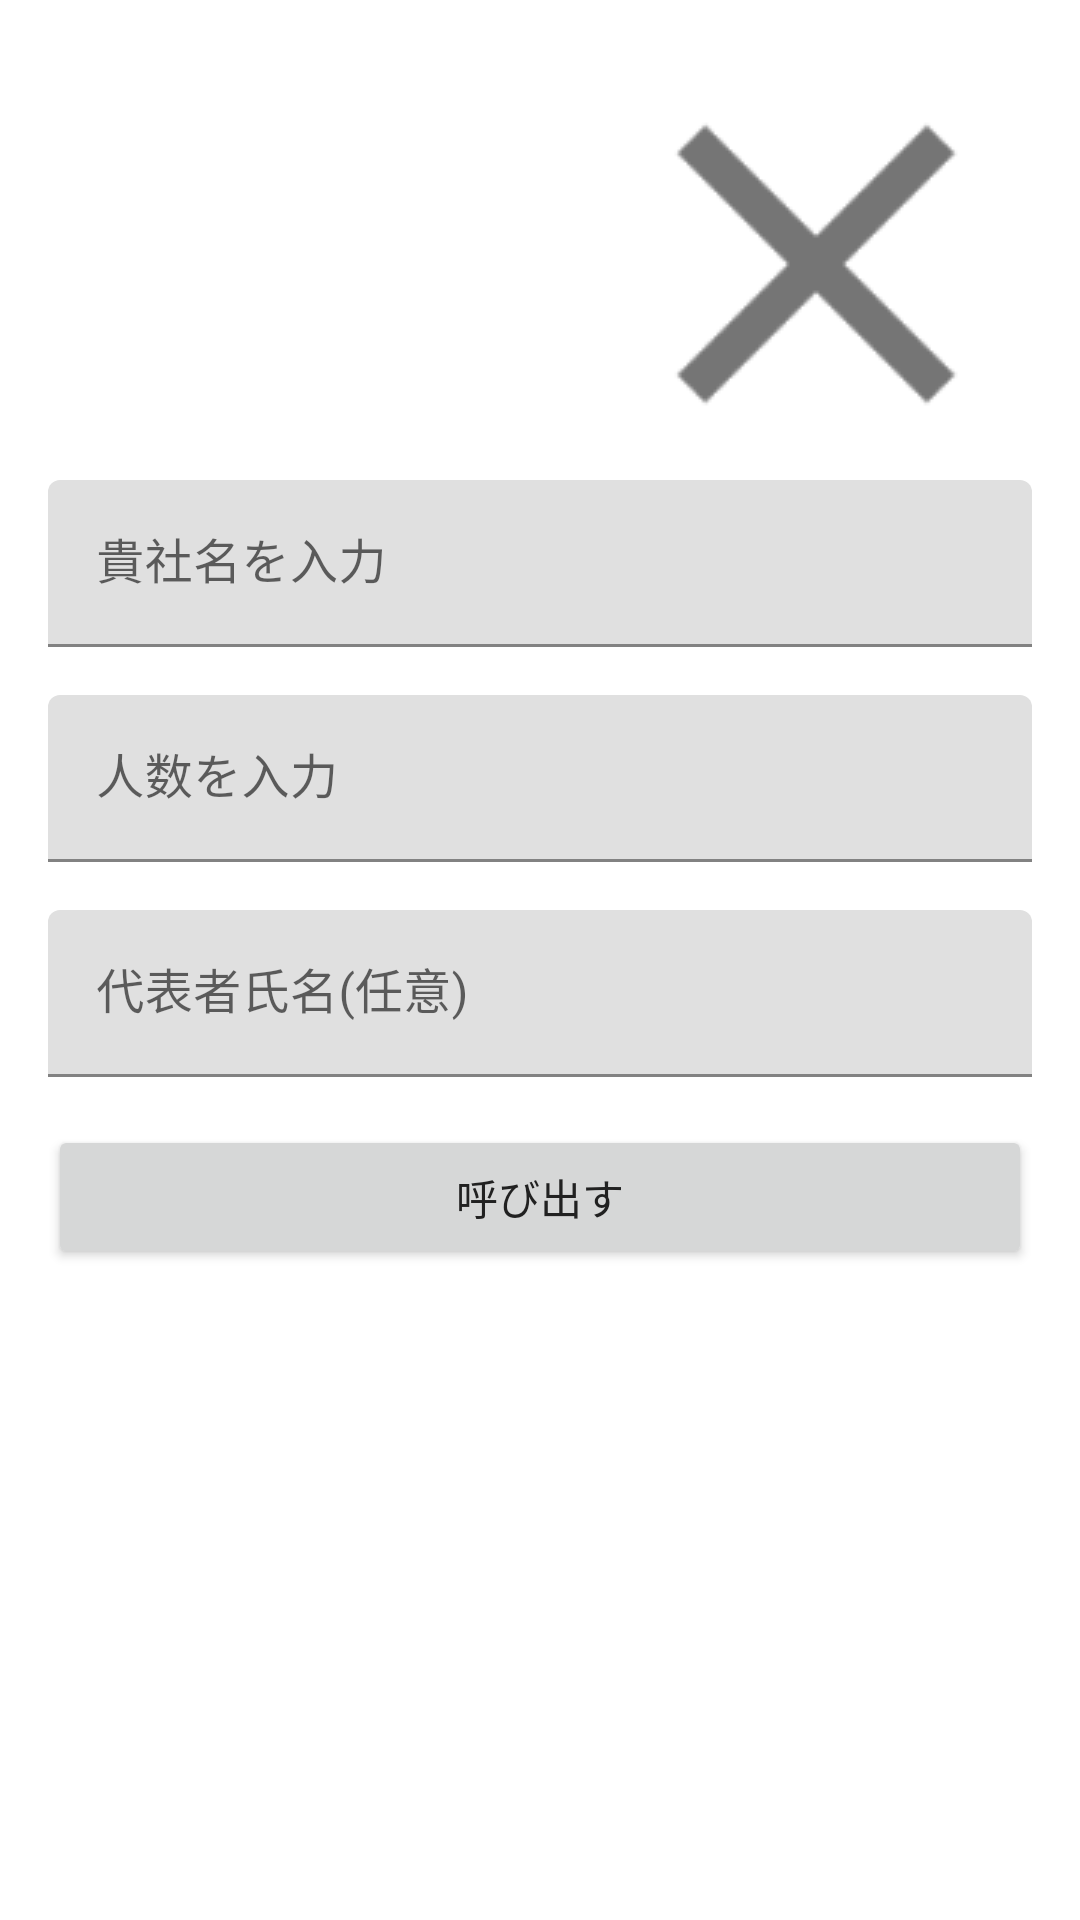

Icons on this 1080×1920 Android screen, each with the point to tap as (x,y):
close: (816,264)
